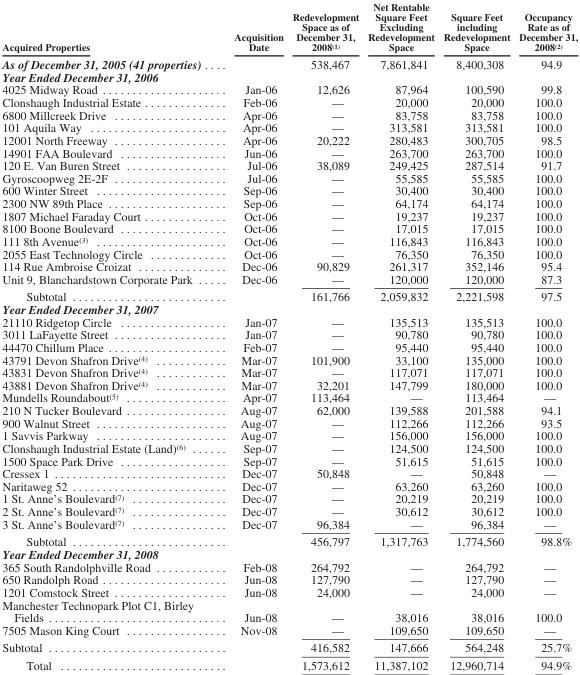table: (1, 0, 577, 671)
table column: (1, 0, 217, 671), (362, 0, 438, 671), (287, 0, 362, 671), (438, 0, 513, 671), (217, 0, 287, 671), (513, 0, 577, 671)
table column header: (1, 0, 577, 54)
table projected row header: (1, 302, 577, 315), (1, 547, 577, 560), (1, 70, 577, 82)
table row: (1, 0, 577, 54), (1, 598, 577, 623), (1, 638, 577, 656), (1, 54, 577, 70), (1, 272, 577, 287), (1, 287, 577, 302), (1, 517, 577, 532), (1, 532, 577, 547), (1, 623, 577, 638), (1, 656, 577, 671), (1, 82, 577, 95), (1, 95, 577, 108), (1, 120, 577, 133), (1, 133, 577, 146), (1, 158, 577, 171), (1, 183, 577, 196), (1, 196, 577, 209), (1, 221, 577, 234), (1, 234, 577, 247), (1, 259, 577, 272), (1, 302, 577, 315), (1, 327, 577, 340), (1, 340, 577, 353), (1, 365, 577, 378), (1, 378, 577, 391), (1, 403, 577, 416), (1, 428, 577, 441), (1, 441, 577, 454), (1, 466, 577, 479), (1, 479, 577, 492), (1, 504, 577, 517), (1, 547, 577, 560), (1, 572, 577, 585), (1, 585, 577, 598), (1, 70, 577, 82), (1, 108, 577, 120), (1, 146, 577, 158), (1, 171, 577, 183), (1, 209, 577, 221), (1, 247, 577, 259), (1, 315, 577, 327), (1, 353, 577, 365), (1, 391, 577, 403), (1, 416, 577, 428), (1, 454, 577, 466), (1, 492, 577, 504), (1, 560, 577, 572)
